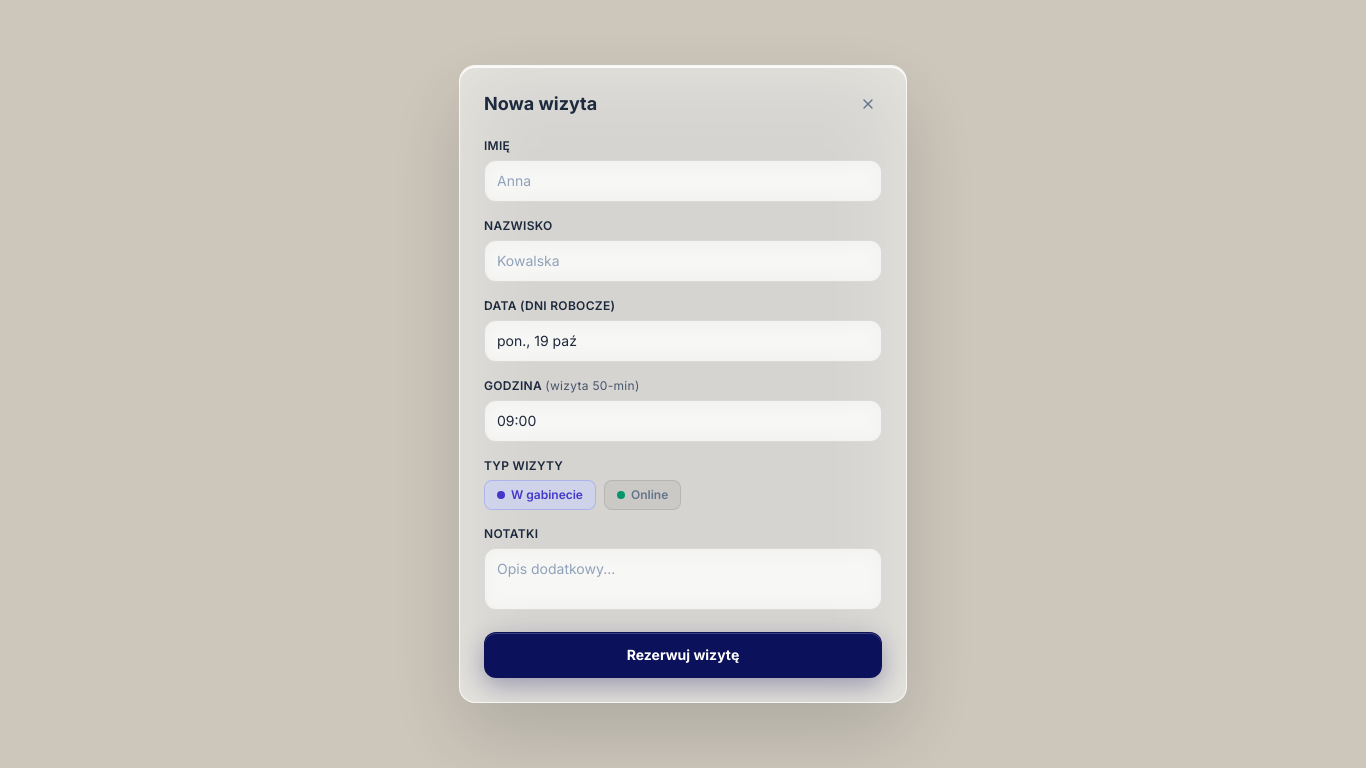
Test: AddTaskModal › name validation › requires a last name when only the first name is filled
In the field labelled "Imię": [683, 181] box [484, 160, 882, 202], type "Jan"
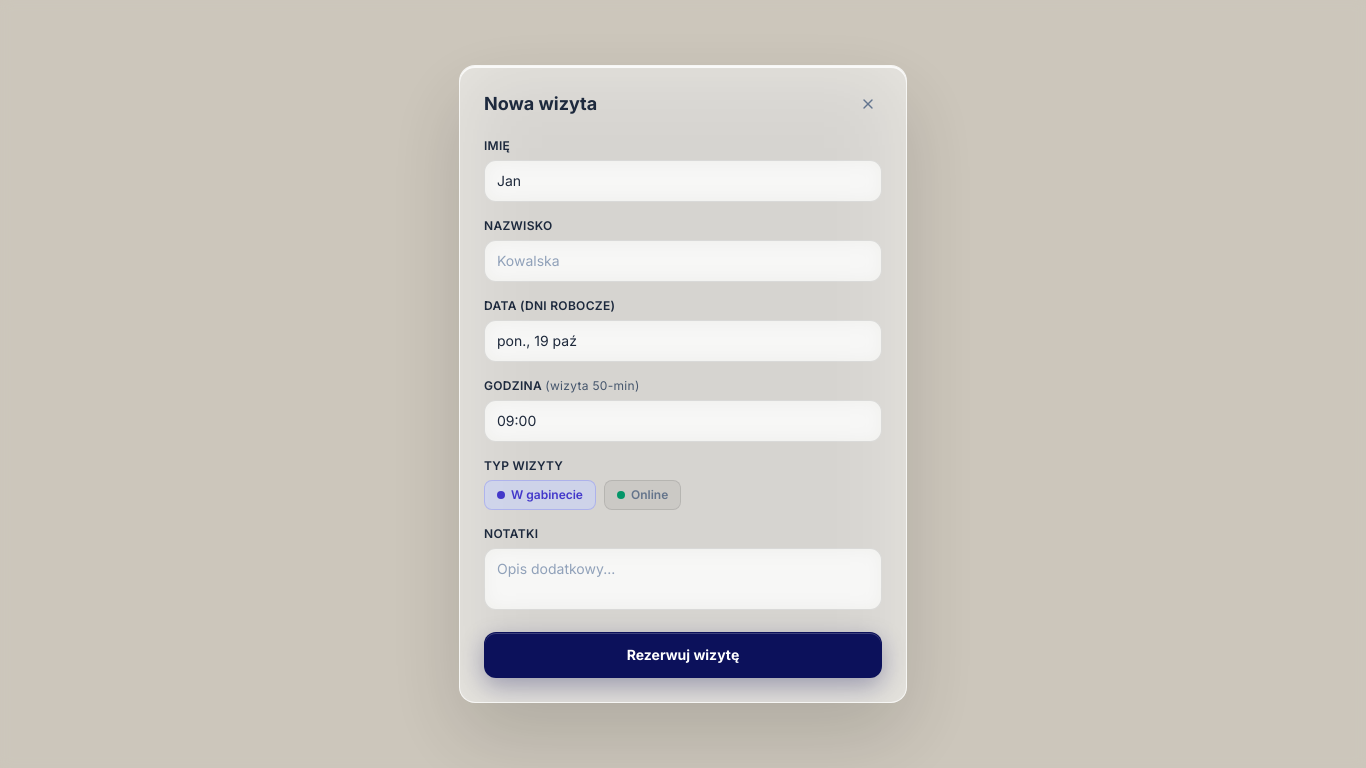
Click the button "Rezerwuj wizytę": [683, 655] box [484, 632, 882, 678]
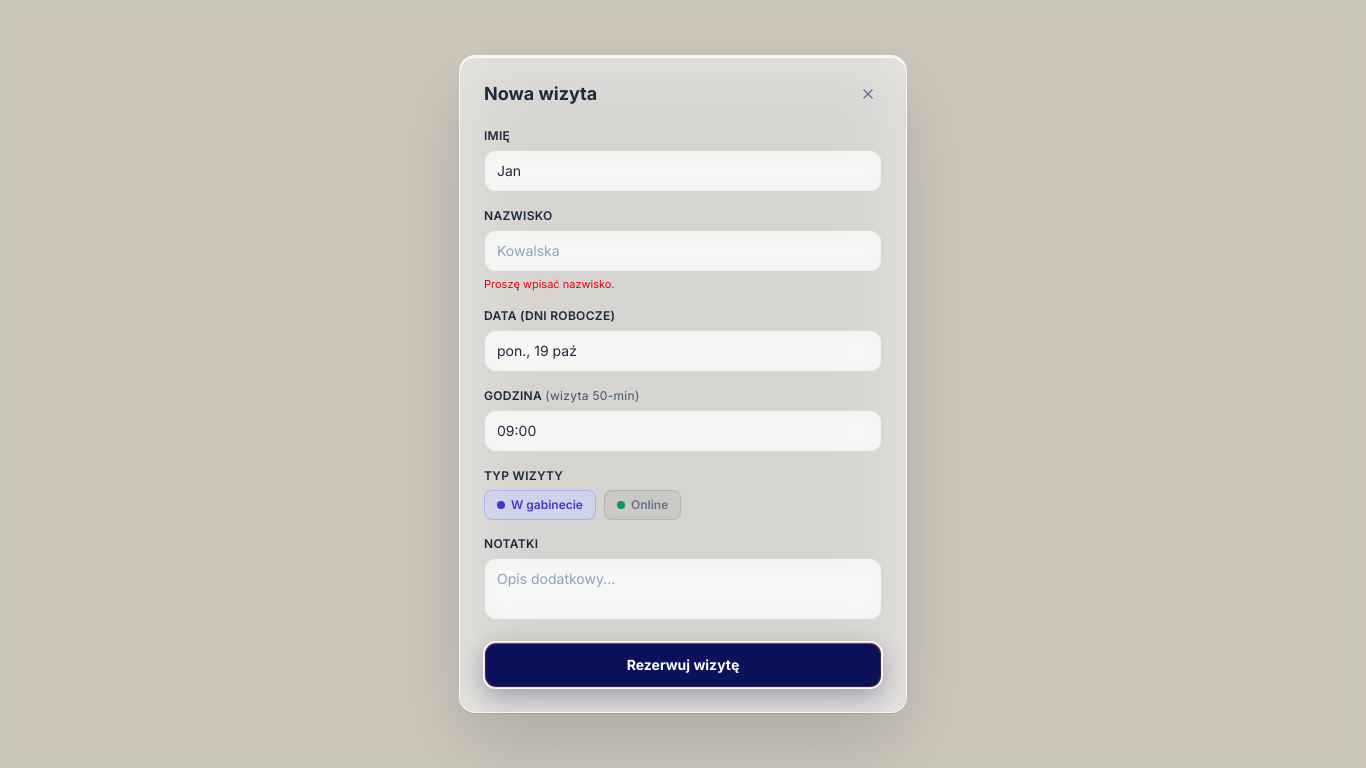
Check: the text "Proszę wpisać nazwisko." is shown, box [484, 277, 614, 291]
